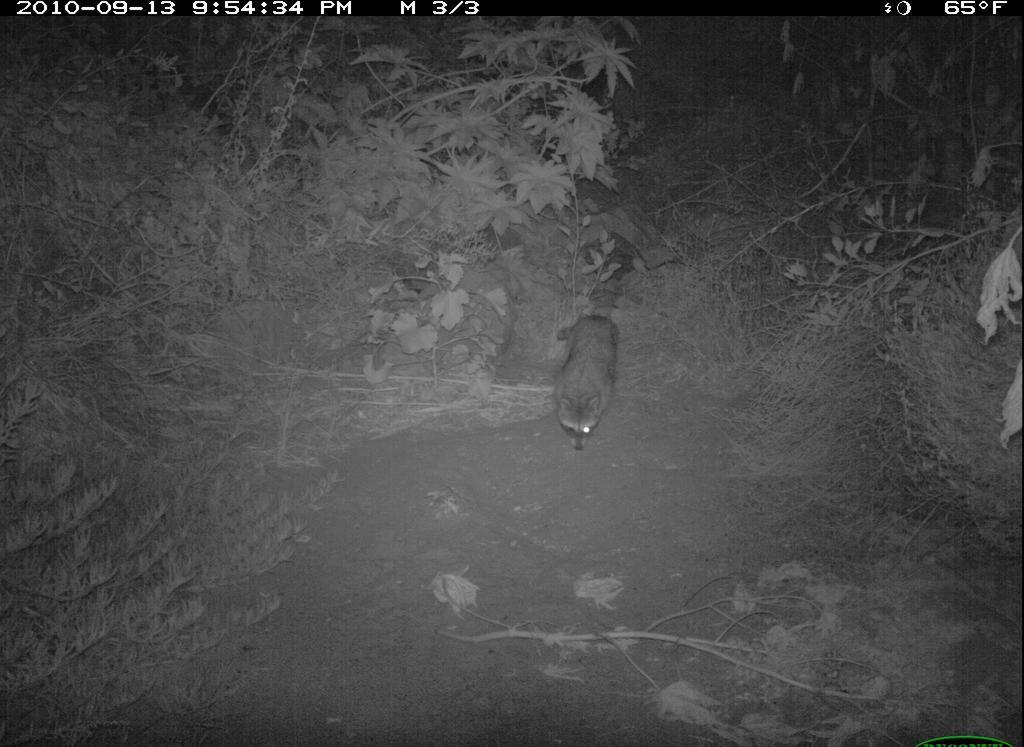raccoon: (551, 314, 635, 456)
